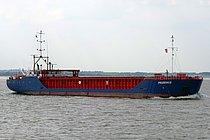Ship: (5, 27, 207, 101)
